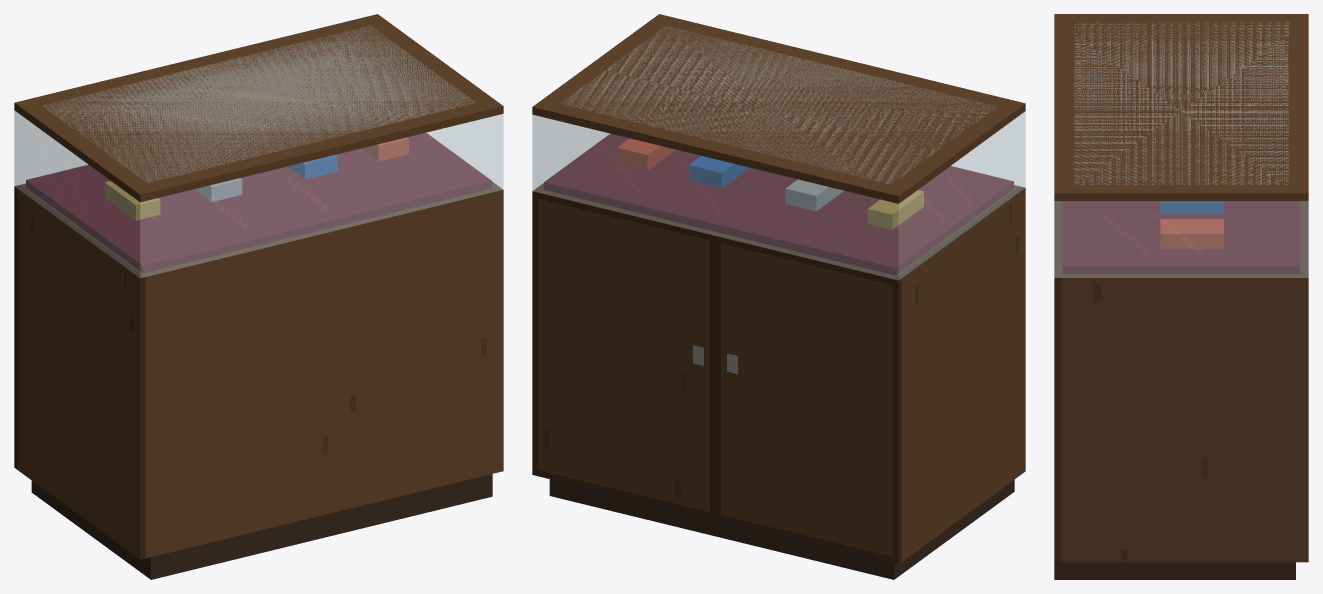
File: f_displaycase.glb
3 views of the same model, side by side, from view 1: azimuth 30°, elevation 25°; view 2: azimuth 150°, elevation 25°; view 3: azimuth 270°, elevation 25° (orthographic).
Visible parts, largest first — view 1: block_case, block_glass, block_rim, block_bed, block_case-plinth, block_item0, block_item2, block_item1, block_item3; view 2: block_case, block_glass, block_rim, block_bed, block_case-plinth, block_item0, block_item2, block_item1, block_item3; view 3: block_case, block_rim, block_glass, block_bed, block_case-plinth, block_item3, block_item2.
Boxes of the visible parts, <box> form: block_case: <box>14,181,503,559</box>; block_glass: <box>14,26,503,278</box>; block_rim: <box>14,14,503,202</box>; block_bed: <box>26,133,491,273</box>; block_case-plinth: <box>31,474,492,579</box>; block_item0: <box>104,181,160,220</box>; block_item2: <box>287,155,337,179</box>; block_item1: <box>194,178,242,201</box>; block_item3: <box>361,137,408,161</box>; block_case: <box>532,183,1025,564</box>; block_glass: <box>532,27,1025,280</box>; block_rim: <box>532,14,1025,203</box>; block_bed: <box>544,133,1013,275</box>; block_case-plinth: <box>549,479,1014,579</box>; block_item0: <box>867,190,923,229</box>; block_item2: <box>688,156,749,188</box>; block_item1: <box>785,179,843,211</box>; block_item3: <box>617,138,675,170</box>; block_case: <box>1054,201,1308,562</box>; block_rim: <box>1054,14,1308,200</box>; block_glass: <box>1054,22,1308,277</box>; block_bed: <box>1062,201,1300,274</box>; block_case-plinth: <box>1054,562,1295,579</box>; block_item3: <box>1160,219,1223,249</box>; block_item2: <box>1160,201,1223,214</box>.
Bounding box in the file's own units: 1 × 1.02 × 0.6.
Materials: 4 (4 with a texture image).
